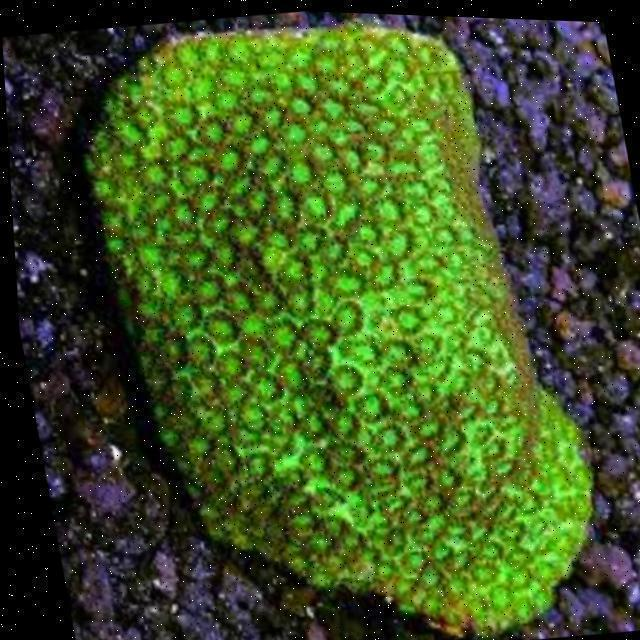Healthy Coral: (63, 2, 608, 640)
